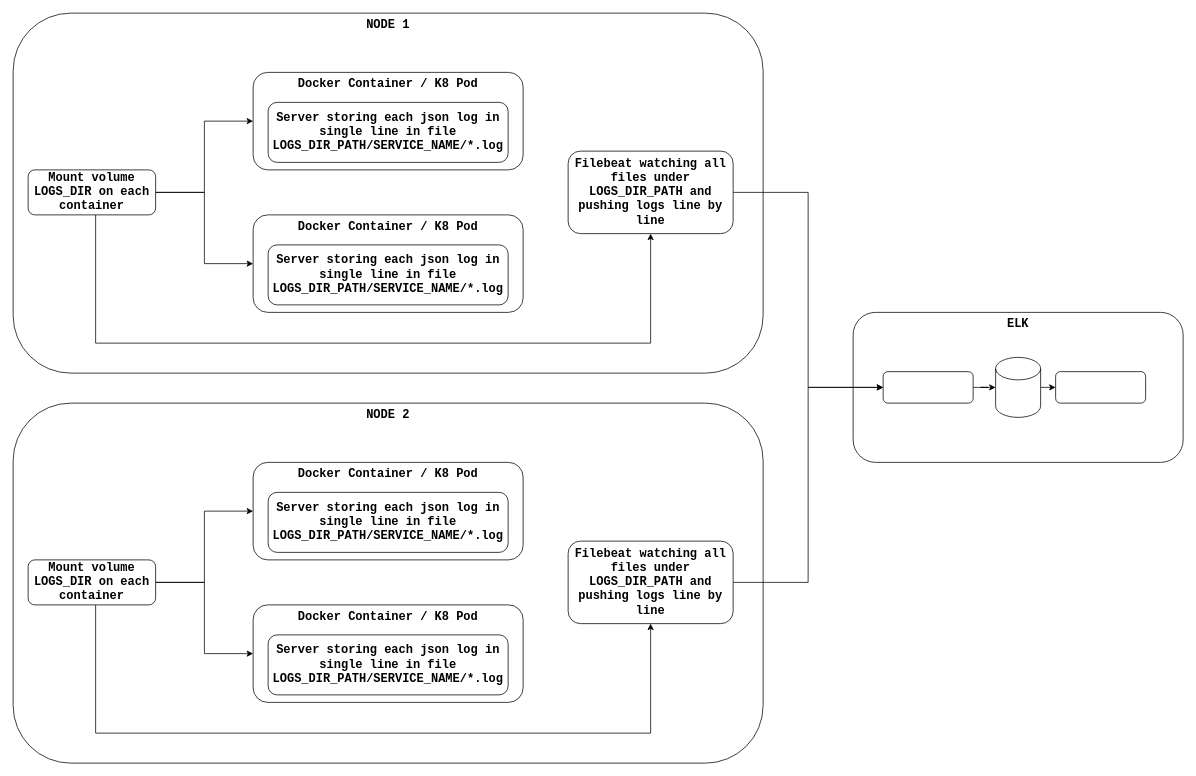
This 1196x776 diagram has some shape labels left out. The centre of each missing label's shape, as x and y in pixels:
"ES" goes at point 1018,387.
"Kibana" goes at point 1100,387.
"Logstash" goes at point 927,387.
